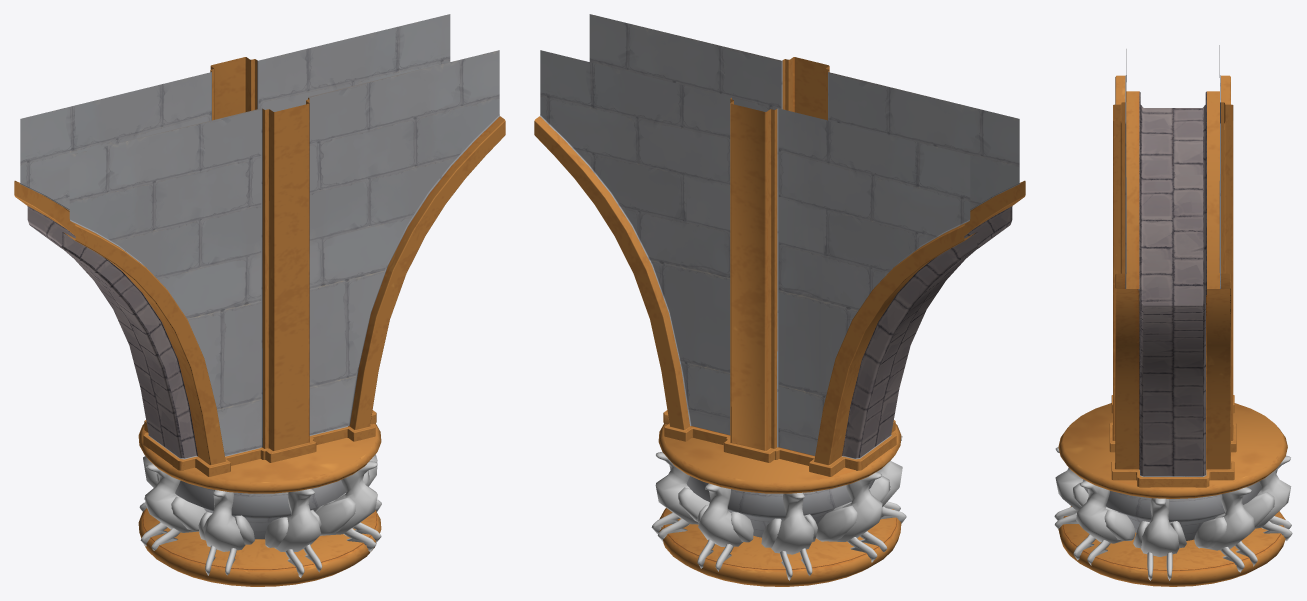
The model's file is SM_WallArchTop.fbx.
3 views of the same model, side by side, from view 1: azimuth 30°, elevation 25°; view 2: azimuth 150°, elevation 25°; view 3: azimuth 270°, elevation 25° (orthographic). The views are drawn at different scales.
Parts seen in each view (by area): view 1: SM_WallArchTop; view 2: SM_WallArchTop; view 3: SM_WallArchTop.
Boxes of the visible parts, x1=… form: SM_WallArchTop: x1=14, y1=14, x2=505, y2=586; SM_WallArchTop: x1=534, y1=14, x2=1025, y2=586; SM_WallArchTop: x1=1054, y1=45, x2=1292, y2=586.
Size of the model in its own units: 4 by 4.06 by 2.03.
